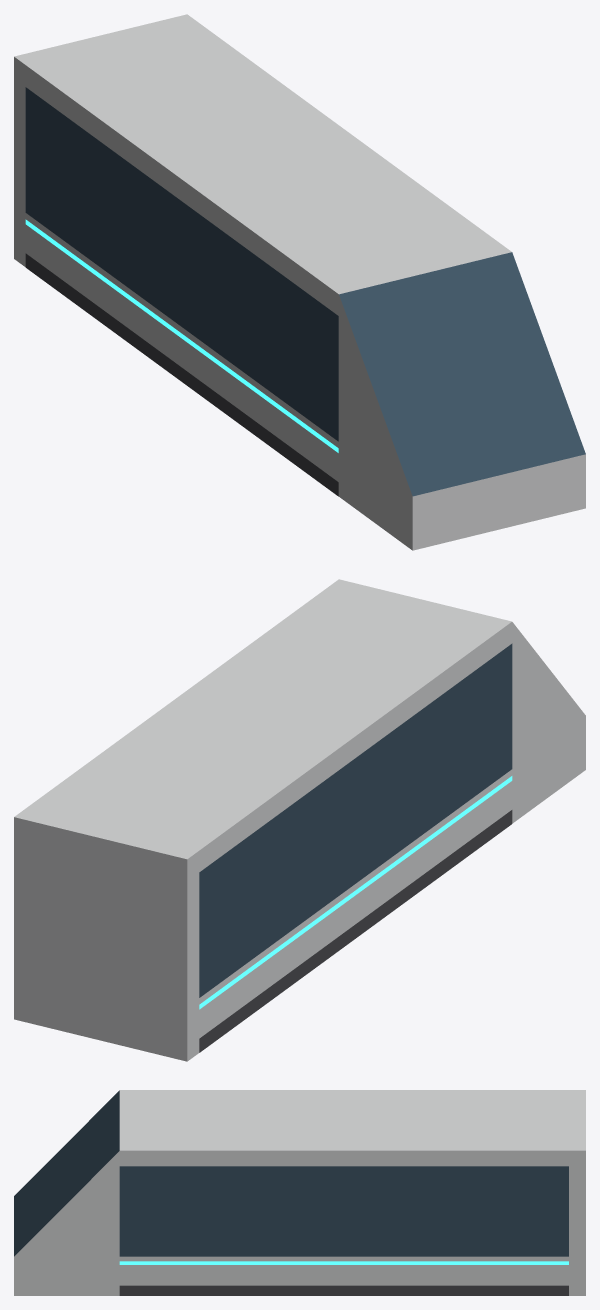
The model's file is 1_far.fbx.
3 views of the same model, one above another, from view 1: azimuth 30°, elevation 25°; view 2: azimuth 150°, elevation 25°; view 3: azimuth 270°, elevation 25° (orthographic). The views are drawn at different scales.
Visible parts, largest first — view 1: 14_1_far; view 2: 14_1_far; view 3: 14_1_far.
Part boxes in pixels (left/top/right/bottom): 14_1_far: left=14, top=14, right=585, bottom=550; 14_1_far: left=14, top=579, right=585, bottom=1061; 14_1_far: left=14, top=1090, right=585, bottom=1295.
Bounding box in the file's own units: 2.52 × 2.8 × 10.
